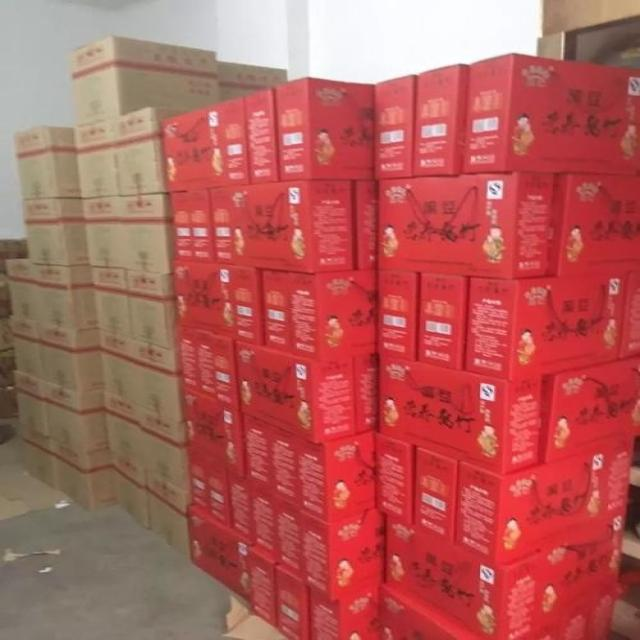box: (387, 515, 626, 640), (453, 436, 637, 566), (462, 53, 640, 174), (379, 351, 543, 476), (376, 172, 554, 279), (465, 273, 630, 381), (70, 36, 220, 127), (234, 340, 356, 445), (227, 180, 355, 274), (257, 267, 379, 362), (538, 355, 640, 465), (274, 79, 374, 181), (547, 174, 640, 276), (172, 259, 262, 346), (113, 107, 202, 194), (302, 509, 388, 599), (297, 431, 376, 524), (411, 64, 470, 178), (381, 581, 490, 640), (187, 505, 253, 602), (305, 570, 388, 640), (159, 104, 225, 191), (182, 385, 243, 479), (174, 325, 239, 411), (35, 322, 106, 393), (42, 378, 109, 453), (416, 273, 467, 371), (13, 126, 82, 198), (410, 442, 458, 545), (118, 193, 177, 275), (529, 587, 618, 640), (23, 198, 90, 268), (374, 74, 416, 180), (132, 338, 184, 423), (54, 442, 118, 510), (32, 263, 97, 329), (124, 268, 177, 348), (143, 469, 188, 557), (141, 409, 187, 493), (74, 117, 120, 200), (378, 269, 419, 359), (376, 430, 413, 526), (97, 327, 141, 407), (244, 88, 279, 184), (81, 194, 124, 268), (109, 449, 148, 530), (90, 265, 133, 338), (104, 390, 142, 469), (216, 60, 285, 103), (239, 411, 273, 495), (269, 424, 302, 509), (218, 97, 250, 184), (274, 559, 308, 639), (246, 543, 276, 628), (18, 423, 56, 490), (352, 180, 378, 270), (275, 498, 303, 579), (353, 351, 379, 436), (9, 317, 44, 380), (15, 367, 46, 437), (225, 472, 255, 543), (188, 187, 216, 262), (4, 257, 36, 321), (618, 270, 640, 360), (169, 189, 195, 261), (251, 486, 276, 559), (211, 185, 233, 266), (206, 465, 229, 526), (186, 456, 207, 516)
